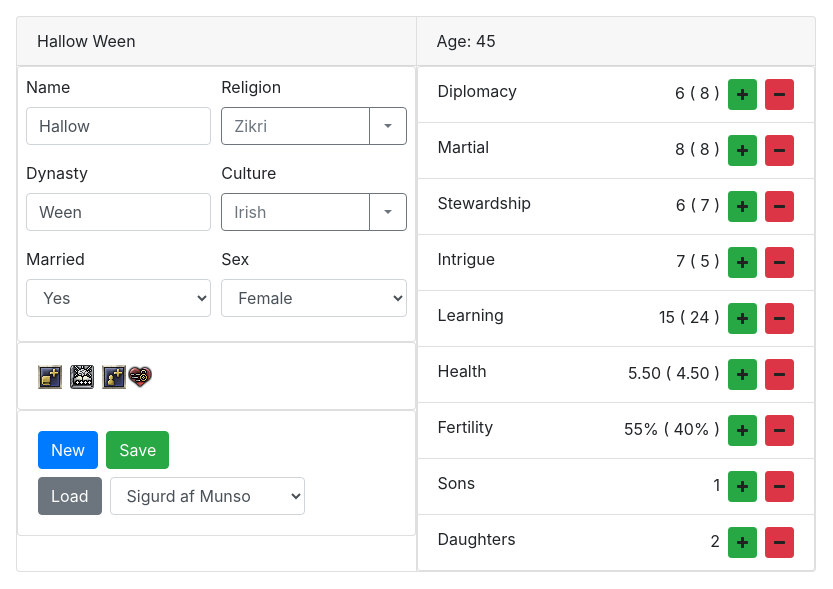
Test: displays server error if character fails to save
Click the button with aria-label "Save Character Button" at (138, 450), box [106,431,169,469]
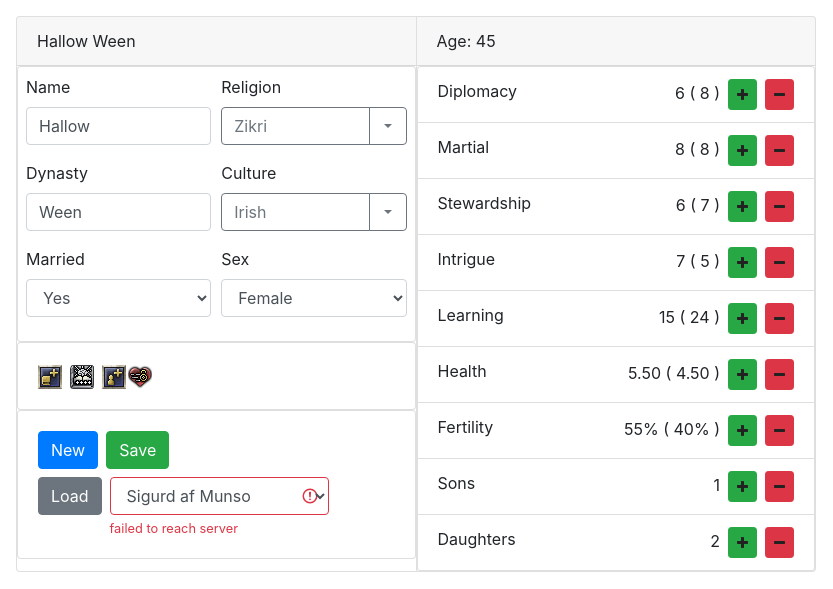
Now the text named "Save Error" reads "failed to reach server", box [110,521,238,536]
